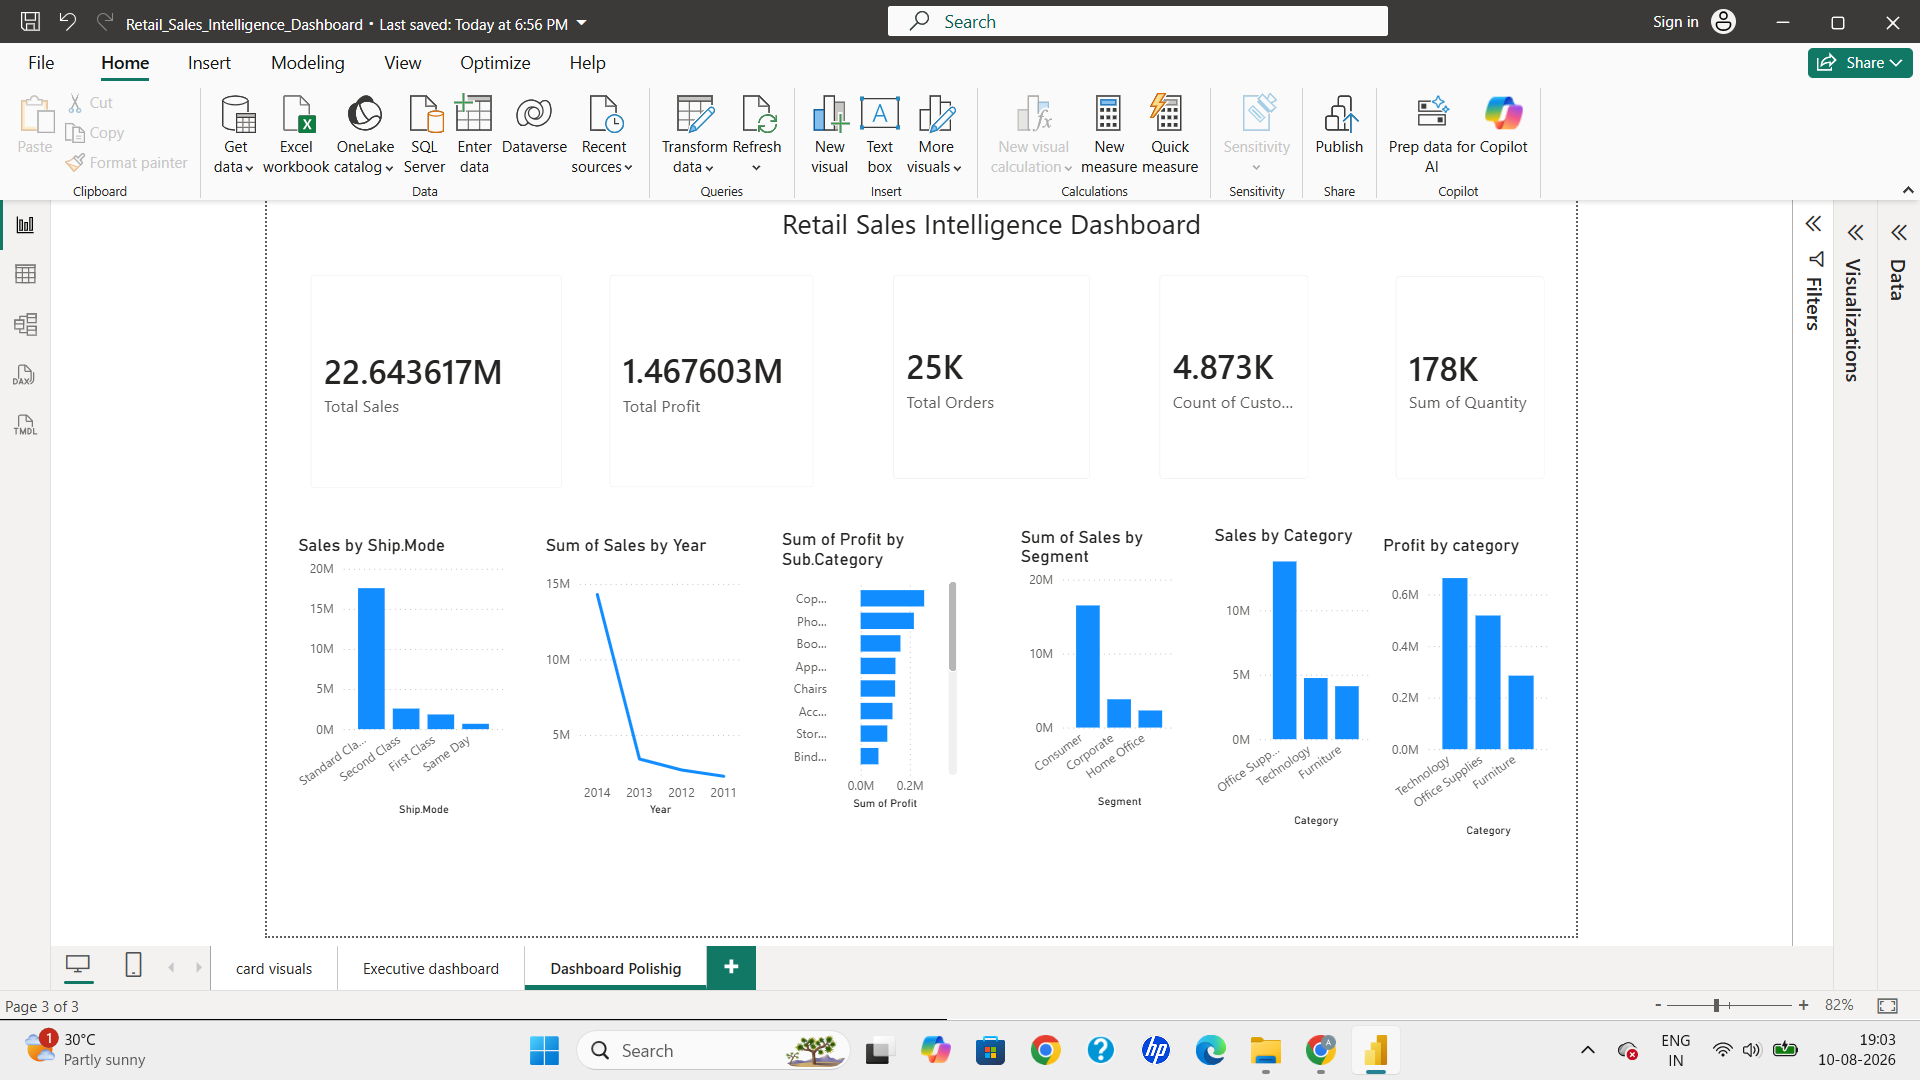

The dashboard page shown, as its layout file describes it:
{"tool":"powerbi","page":{"name":"Dashboard Polishig","canvas":[1280,720],"ordinal":2},"visuals":[{"type":"cardVisual","fields":{"Data":["Sales_Data.Total Sales"]},"box":[25.7,56.3,280,243.3],"z":0},{"type":"cardVisual","fields":{"Data":["Sales_Data.Total Profit"]},"box":[318.4,56.3,234.6,242.9],"z":1000},{"type":"cardVisual","fields":{"Data":["Sales_Data.Total Orders"]},"box":[595.5,56.3,227.4,234.8],"z":2000},{"type":"cardVisual","fields":{"Data":["Count(Sales_Data.Customer.ID)"]},"box":[856,56.3,181,234.8],"z":3000},{"type":"cardVisual","fields":{"Data":["Sum(Sales_Data.Quantity)"]},"box":[1087.1,57.5,181,233.6],"z":4000},{"type":"clusteredColumnChart","title":"Sales by Ship.Mode","fields":{"Category":["Sales_Data.Ship.Mode"],"Y":["Sum(Sales_Data.Sales)"]},"box":[26.1,328,211.3,279.9],"z":5000},{"type":"lineChart","fields":{"Category":["Sales_Data.Year"],"Y":["Sum(Sales_Data.Sales)"]},"box":[267.6,328,201.7,279.9],"z":6000},{"type":"clusteredBarChart","fields":{"Category":["Sales_Data.Sub.Category"],"Y":["Sum(Sales_Data.Profit)"]},"box":[499.5,321.1,181.1,279.9],"z":7000},{"type":"clusteredColumnChart","fields":{"Category":["Sales_Data.Segment"],"Y":["Sum(Sales_Data.Sales)"]},"box":[732.8,319.7,161.9,279.9],"z":8000},{"type":"clusteredColumnChart","title":"Sales by Category","fields":{"Category":["Sales_Data.Category"],"Y":["Sum(Sales_Data.Sales)"]},"box":[922.1,318.4,164.7,300.5],"z":9000},{"type":"clusteredColumnChart","title":"Profit by category","fields":{"Category":["Sales_Data.Category"],"Y":["Sum(Sales_Data.Profit)"]},"box":[1086.8,328,171.5,300.5],"z":10000},{"type":"textbox","box":[498.9,0,574.7,56.3],"z":10001}]}

Visuals, with their boxes on the page's 1280x720 design canvas (x1, y1, x2, y2). These are canvas units, not pixel positions in the 1920x1080 screenshot, which may show the page scaled, cropped or inside an application window:
cardVisual - Sales_Data.Total Sales: bbox=(26, 56, 306, 300)
cardVisual - Sales_Data.Total Profit: bbox=(318, 56, 553, 299)
cardVisual - Sales_Data.Total Orders: bbox=(596, 56, 823, 291)
cardVisual - Count(Sales_Data.Customer.ID): bbox=(856, 56, 1037, 291)
cardVisual - Sum(Sales_Data.Quantity): bbox=(1087, 58, 1268, 291)
"Sales by Ship.Mode" clusteredColumnChart: bbox=(26, 328, 237, 608)
lineChart - Sales_Data.Year x Sum(Sales_Data.Sales): bbox=(268, 328, 469, 608)
clusteredBarChart - Sales_Data.Sub.Category x Sum(Sales_Data.Profit): bbox=(500, 321, 681, 601)
clusteredColumnChart - Sales_Data.Segment x Sum(Sales_Data.Sales): bbox=(733, 320, 895, 600)
"Sales by Category" clusteredColumnChart: bbox=(922, 318, 1087, 619)
"Profit by category" clusteredColumnChart: bbox=(1087, 328, 1258, 628)
textbox: bbox=(499, 0, 1074, 56)
